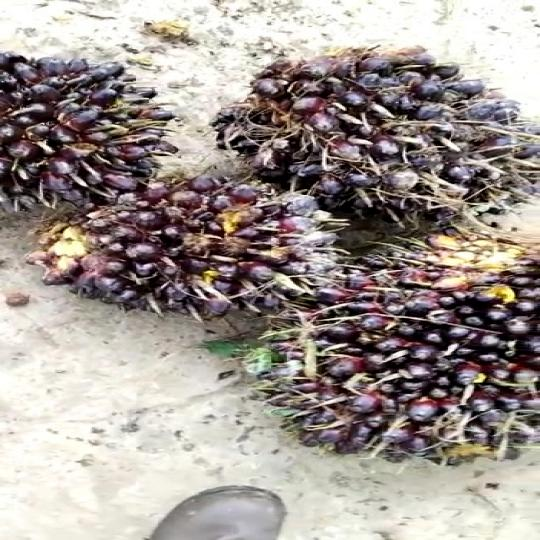kurang masak: (247, 229, 540, 460), (216, 53, 540, 235), (44, 168, 369, 328), (0, 39, 176, 216)
